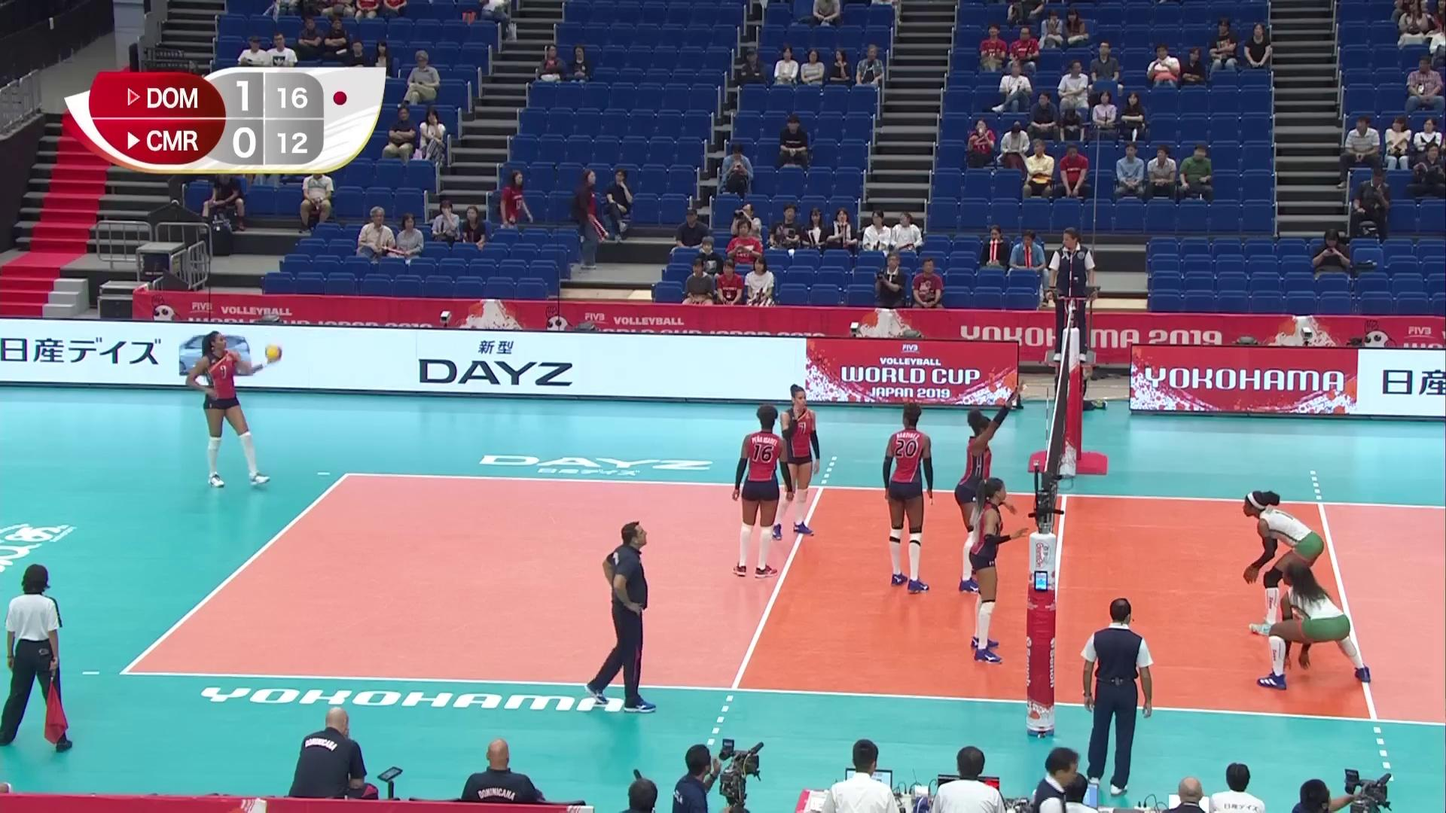player: (1256, 562, 1370, 689), (189, 334, 279, 489), (1240, 490, 1329, 634), (966, 479, 1026, 660), (957, 389, 1008, 594), (882, 406, 935, 592), (733, 407, 789, 580), (770, 385, 821, 537)
refree: (1083, 598, 1154, 792), (1, 565, 71, 743), (1045, 227, 1096, 363)
